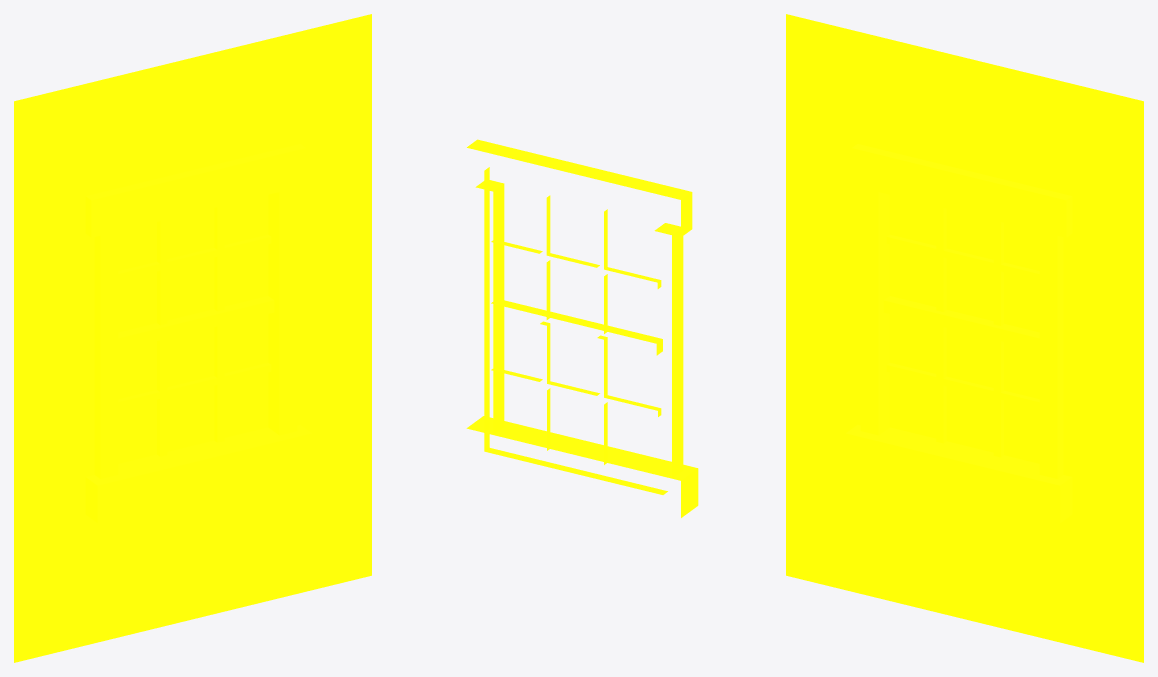
File: window-a.glb
3 views of the same model, side by side, from view 1: azimuth 30°, elevation 25°; view 2: azimuth 150°, elevation 25°; view 3: azimuth 330°, elevation 25° (orthographic).
Visible parts, largest first — view 1: WindowAFull; view 2: WindowAFull; view 3: WindowAFull.
Boxes of the visible parts, box(x1,y1,x2,y2) form: WindowAFull: box(14, 14, 371, 662); WindowAFull: box(466, 139, 698, 517); WindowAFull: box(786, 14, 1143, 662).
Size of the model in its own units: 2 by 3 by 0.17.
Materials: 1 (1 with a texture image).
